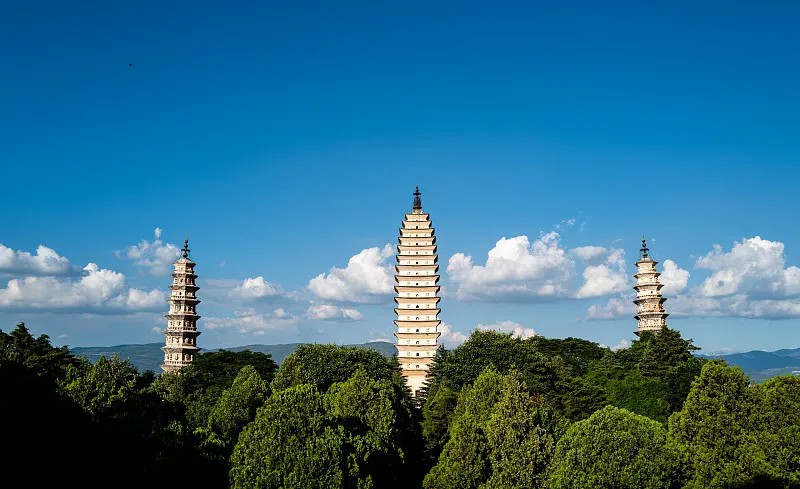ThreePagoda: (393, 186, 442, 398)
